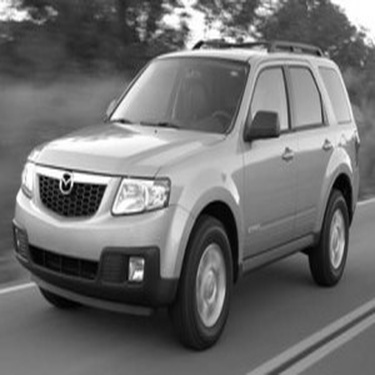car: (8, 29, 367, 351)
